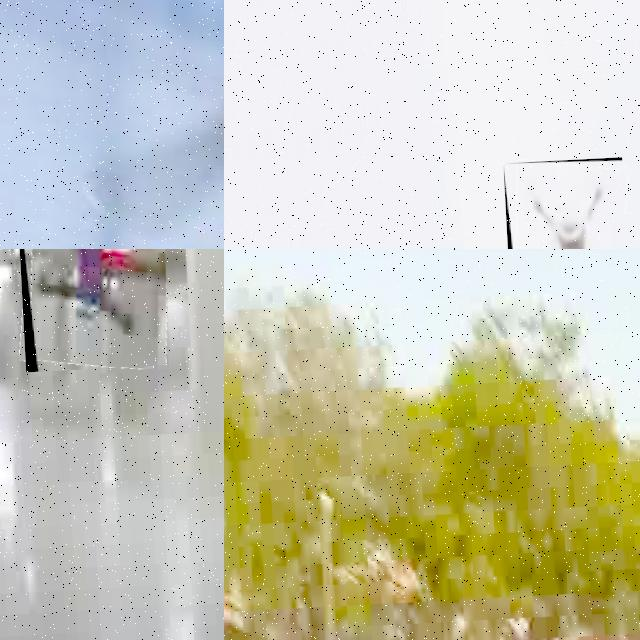0: (15, 249, 171, 372)
drone: (0, 0, 224, 249), (503, 157, 631, 249)
